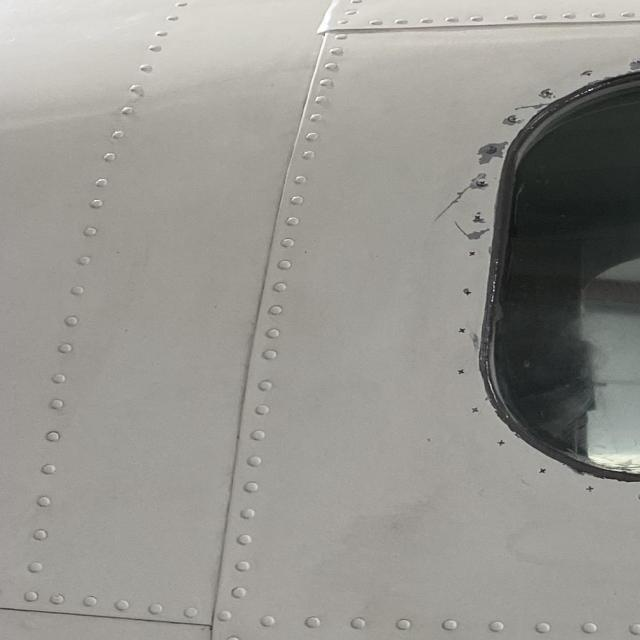Paint-off: (474, 142, 504, 165), (464, 226, 492, 243), (498, 115, 519, 127), (627, 56, 640, 70)
Scratch: (427, 171, 490, 224), (511, 100, 555, 113), (452, 218, 467, 235)
